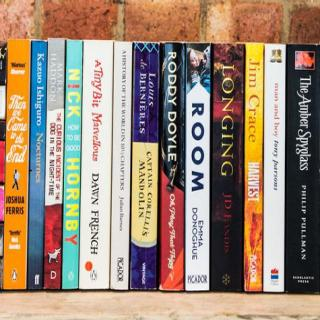book-spine: (211, 43, 245, 292), (286, 42, 319, 295), (131, 38, 160, 292), (82, 39, 111, 293), (4, 36, 28, 290), (160, 39, 184, 293), (26, 40, 50, 294), (42, 38, 66, 290), (186, 42, 210, 291), (264, 45, 287, 294), (244, 43, 264, 294), (112, 41, 131, 291), (64, 39, 83, 288)
